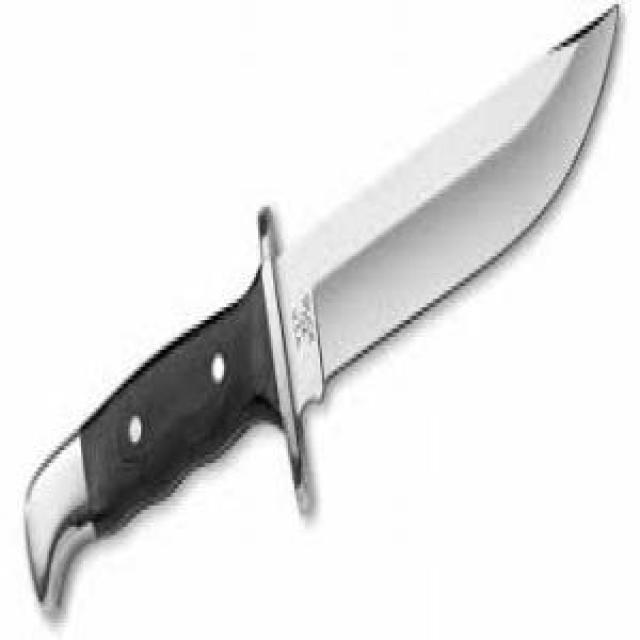knife: (23, 2, 620, 624)
